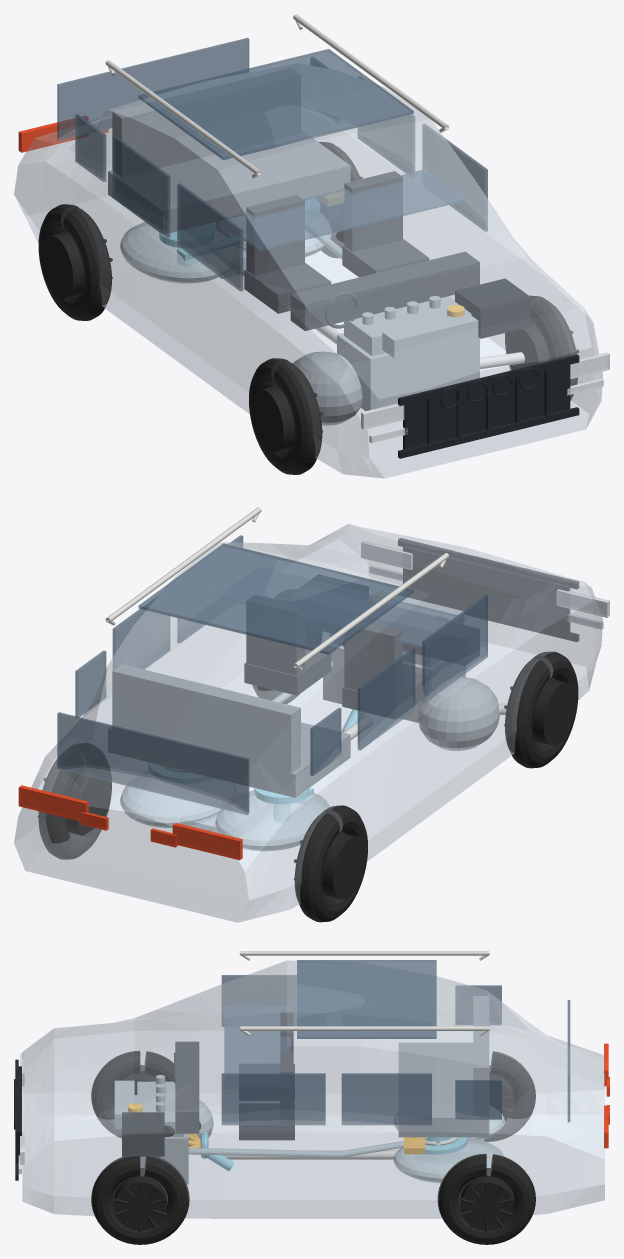
The picture shows the model from 3 angles, top to bottom: view 1: azimuth 30°, elevation 25°; view 2: azimuth 150°, elevation 25°; view 3: azimuth 270°, elevation 25°; orthographic projection. The views are drawn at different scales.
Visible parts, largest first — view 1: body_shell, glass_windows, rear_seat_cushion, front_seats_dashboard, engine_block, body_trim_grille_headlights, wheel_rl, wheel_fl, fuel_tank, transmission, wheel_fr, air_filter (+7 smaller); view 2: body_shell, glass_windows, rear_seat_cushion, front_seats_dashboard, body_trim_grille_headlights, fuel_tank, wheel_fl, wheel_rl, wheel_rr, transmission, taillights, engine_block (+5 smaller); view 3: body_shell, glass_windows, rear_seat_cushion, wheel_fr, wheel_rr, front_seats_dashboard, engine_block, wheel_fl, wheel_rl, roof_rails, fuel_tank, air_filter (+6 smaller).
Part boxes in pixels (x1,y1,x2,y2): body_shell: (14,64,602,478); glass_windows: (57,38,487,291); rear_seat_cushion: (108,68,350,233); front_seats_dashboard: (244,171,479,330); engine_block: (337,296,479,410); body_trim_grille_headlights: (398,354,579,458); wheel_rl: (38,204,112,320); wheel_fl: (249,358,322,474); fuel_tank: (120,222,331,283); transmission: (293,351,362,425); wheel_fr: (505,295,578,400); air_filter: (455,278,531,338); body_shell: (14,524,602,922); glass_windows: (57,535,487,815); rear_seat_cushion: (108,664,350,797); front_seats_dashboard: (244,595,479,718); body_trim_grille_headlights: (398,538,578,641); fuel_tank: (120,786,329,851); wheel_fl: (504,651,578,768); wheel_rl: (294,805,367,922); wheel_rr: (38,743,111,859); transmission: (417,677,499,750); taillights: (18,785,242,860); engine_block: (323,591,465,722); body_shell: (22,960,604,1218); glass_windows: (221,960,570,1125); rear_seat_cushion: (398,996,489,1137); wheel_fr: (91,1153,189,1244); wheel_rr: (437,1153,535,1244); front_seats_dashboard: (174,1012,294,1140); engine_block: (114,1075,188,1184); wheel_fl: (91,1051,173,1138); wheel_rl: (484,1051,535,1141); roof_rails: (239,951,489,1035); fuel_tank: (393,1114,504,1183); air_filter: (122,1112,201,1156).
Bounding box in the file's own units: 2.12 × 1.69 × 4.48.
